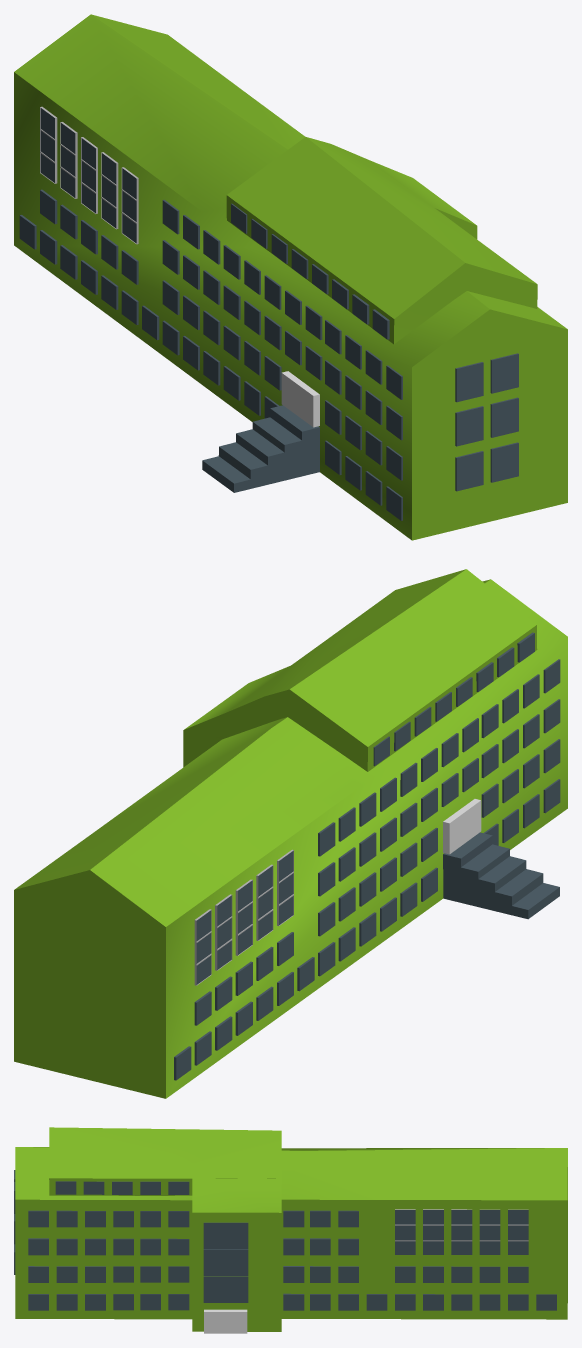
The picture shows the model from 3 angles, top to bottom: view 1: azimuth 30°, elevation 25°; view 2: azimuth 150°, elevation 25°; view 3: azimuth 270°, elevation 25°; orthographic projection. The views are drawn at different scales.
Visible parts, largest first — view 1: C14, Entrance_Front; view 2: C14, Entrance_Front; view 3: C14, Entrance_Back.
Boxes of the visible parts, x1,y1,x2,y2 form: C14: (14,14,567,540); Entrance_Front: (281,371,319,427); C14: (14,569,567,1098); Entrance_Front: (443,799,481,854); C14: (14,1127,567,1331); Entrance_Back: (204,1309,247,1333).
Bounding box in the file's own units: 20.7 × 16.66 × 50.58.
